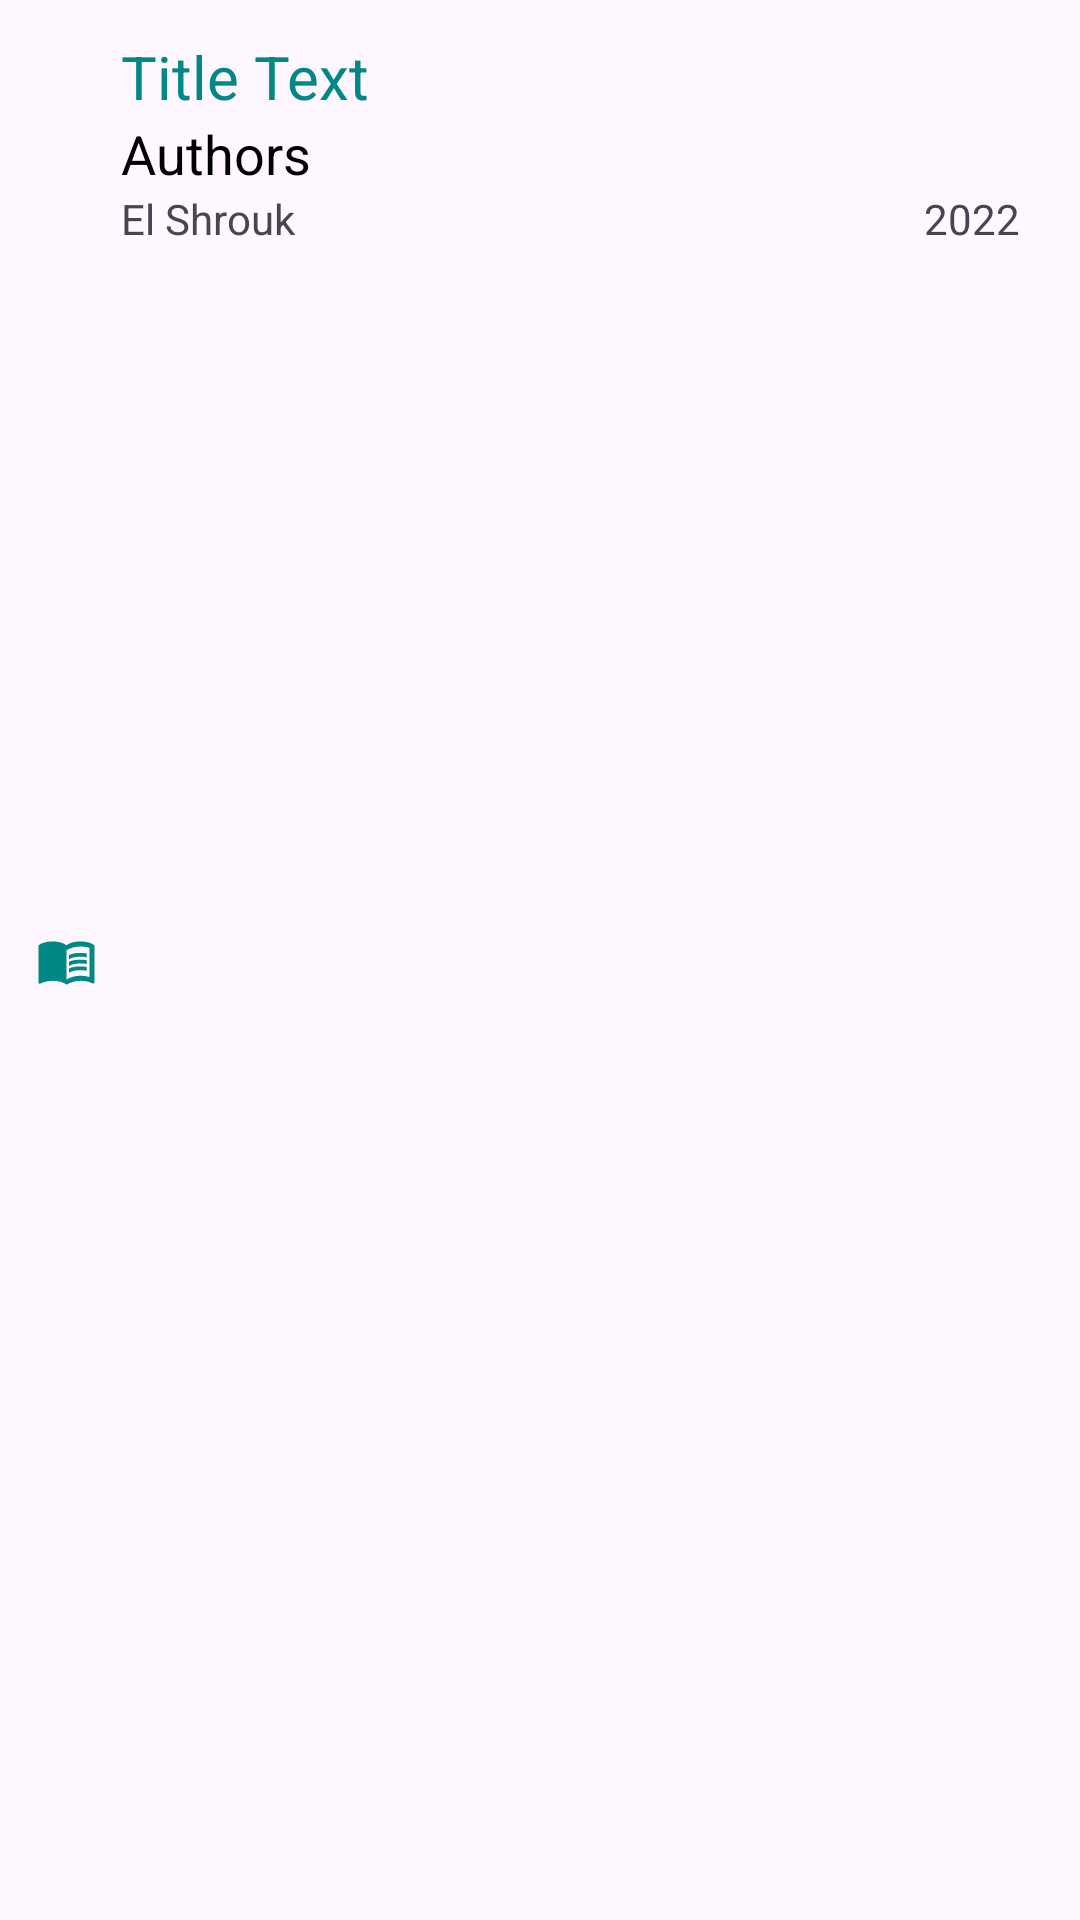

Screen size 1080×1920. Icon name, then its center in pixels as point (x, y):
book open variant: point (66, 963)
